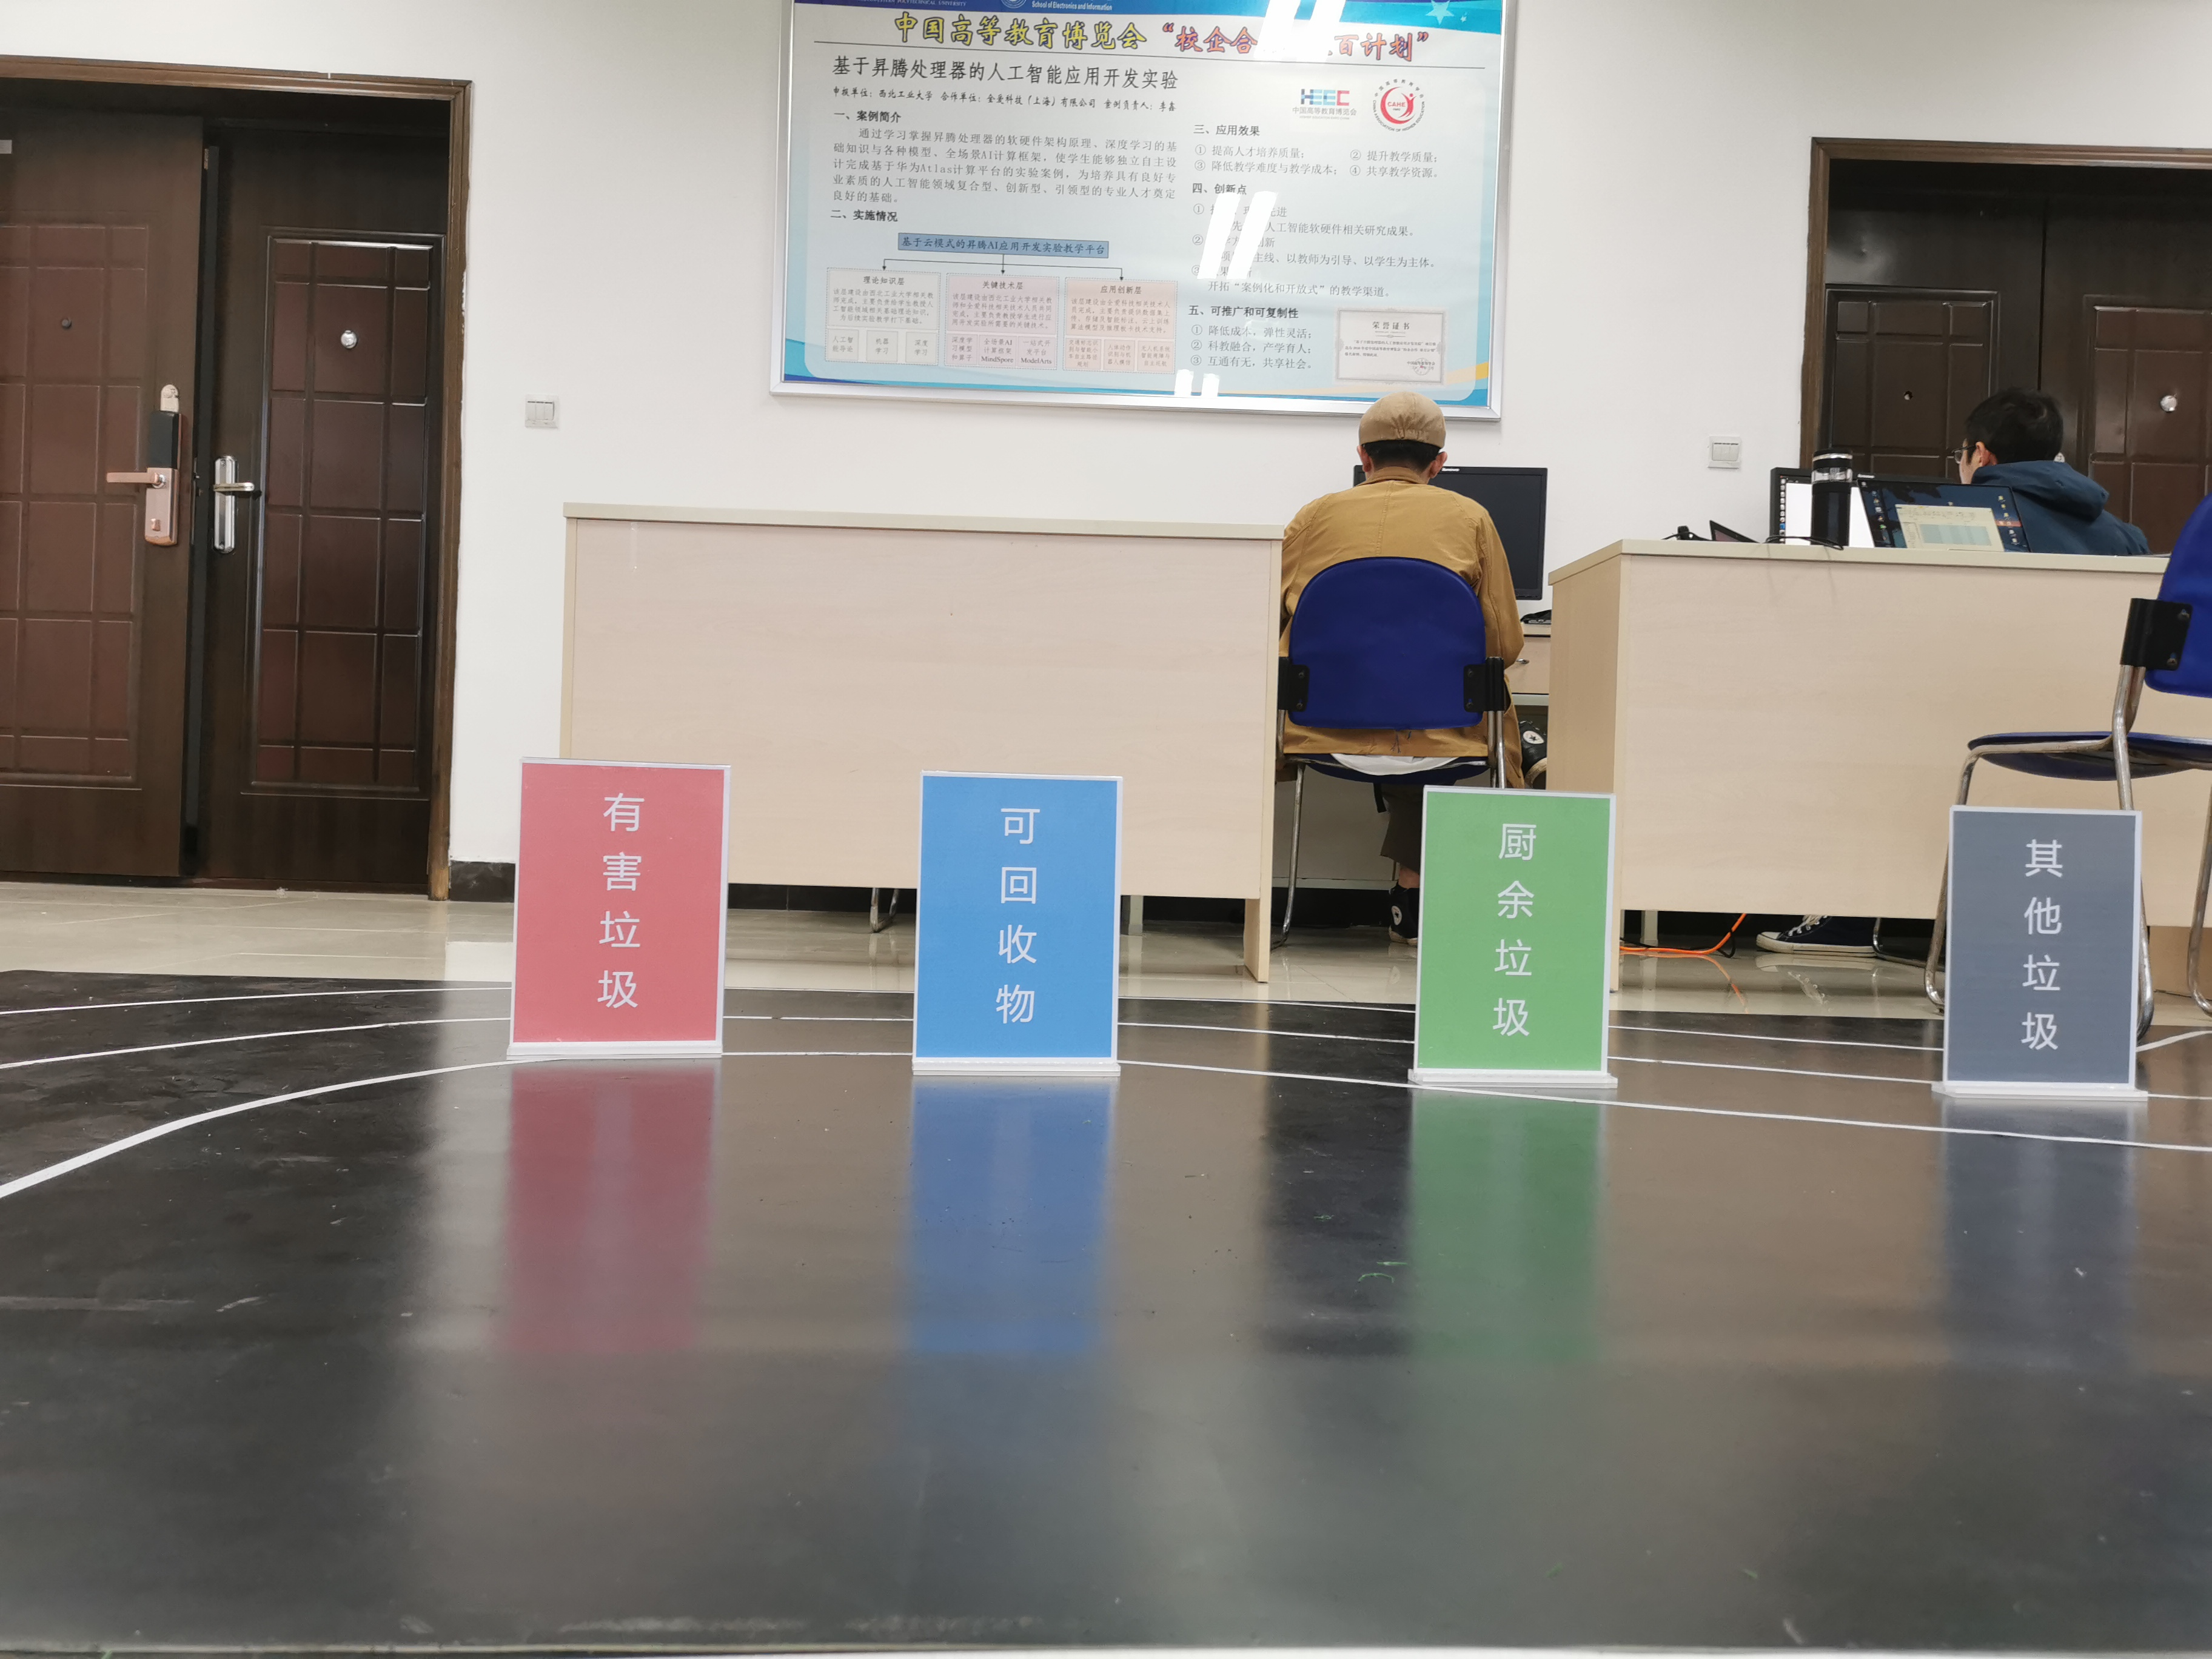black: (1961, 821, 2121, 1075)
blue: (927, 786, 1104, 1058)
green: (1428, 800, 1597, 1063)
red: (526, 774, 712, 1037)
